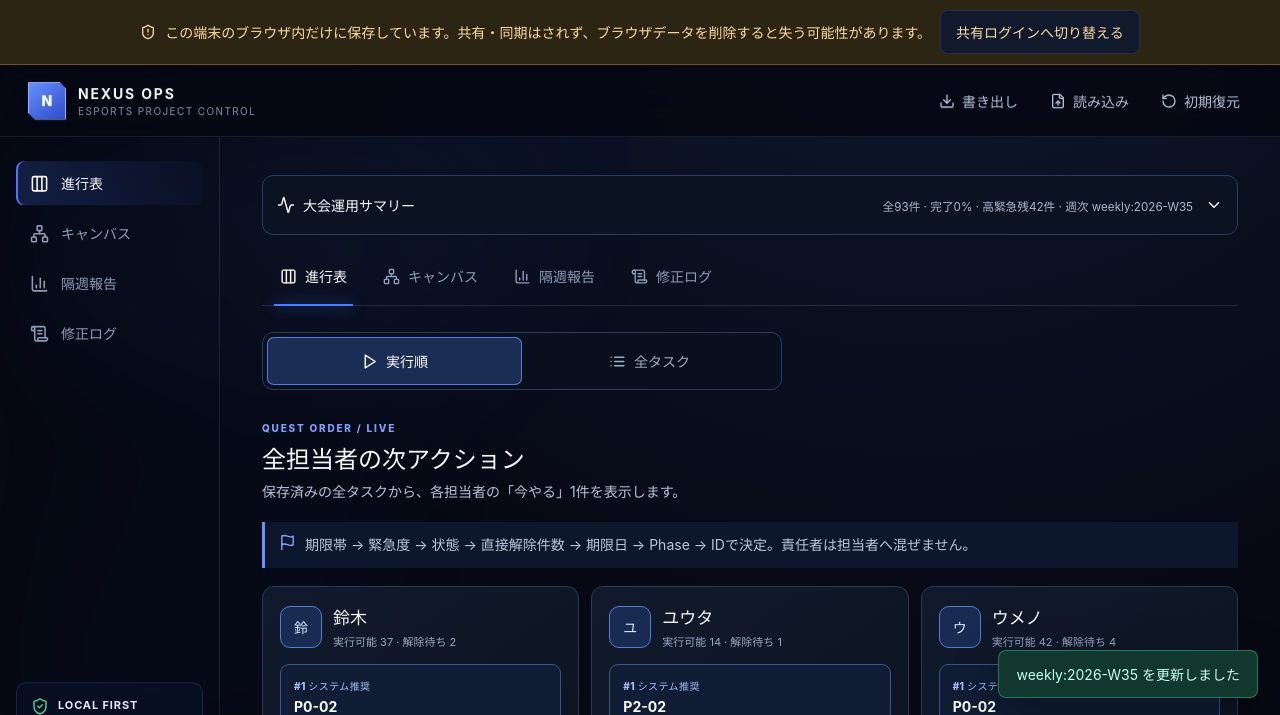
Test: CloudRoot local-only mode › returns from local mode to the shared login flow
The image size is (1280, 715).
Click the button "共有ログインへ切り替える". click: (1040, 32)
box: [940,10,1140,54]
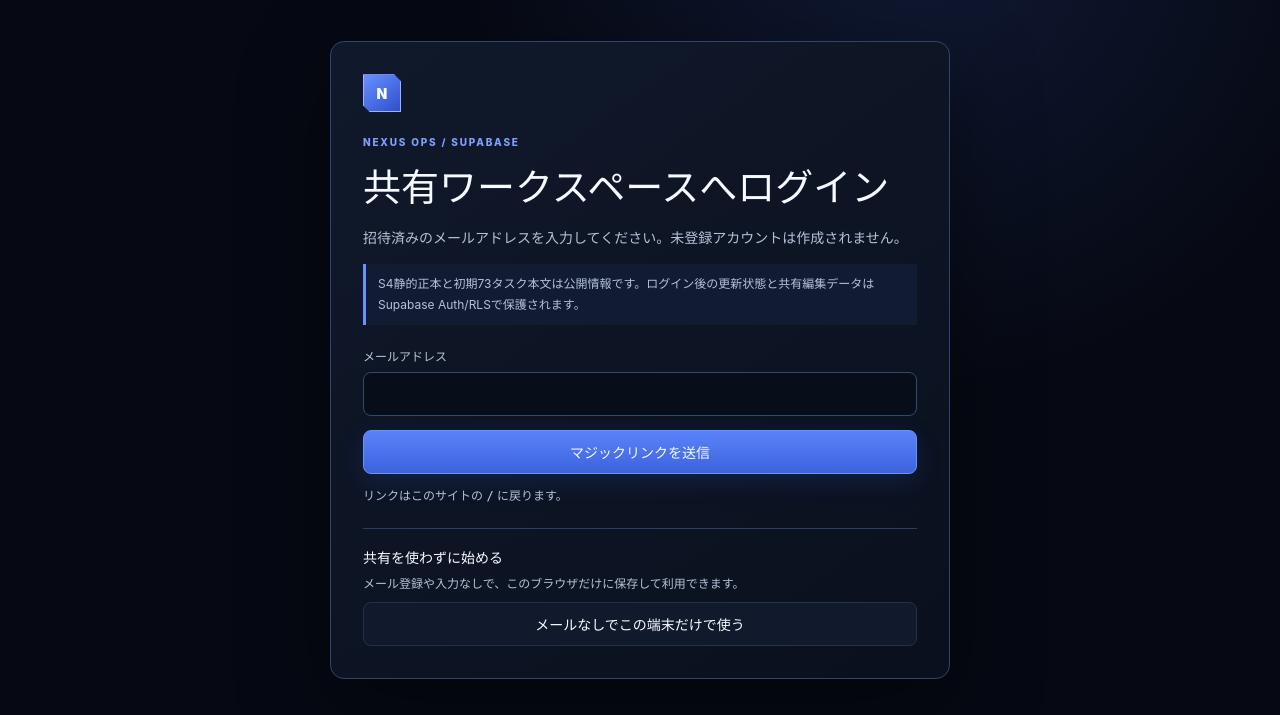
Result: the heading "共有ワークスペースへログイン" is shown at [363,157,917,212]
